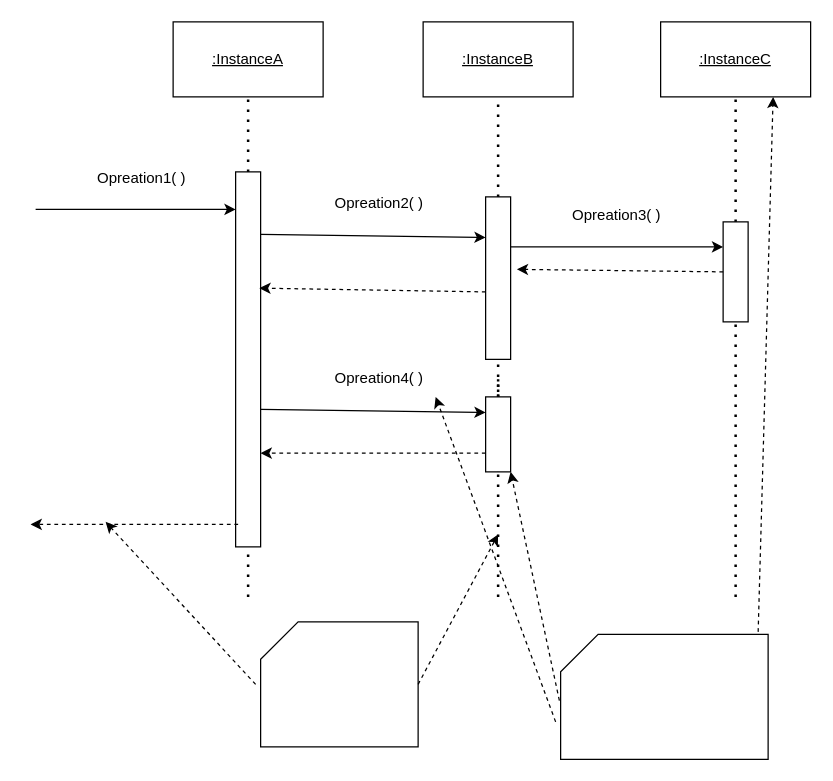
The diagram is 833 pixels wide and 781 high, and some of its shapes have lost their labels. Each missing label, with the box of its shape:
回復訊息物件生命線: (259, 621, 418, 747)
程式中被建立的物件 執行規格長條格 訊息操作(呼叫): (559, 633, 768, 759)
